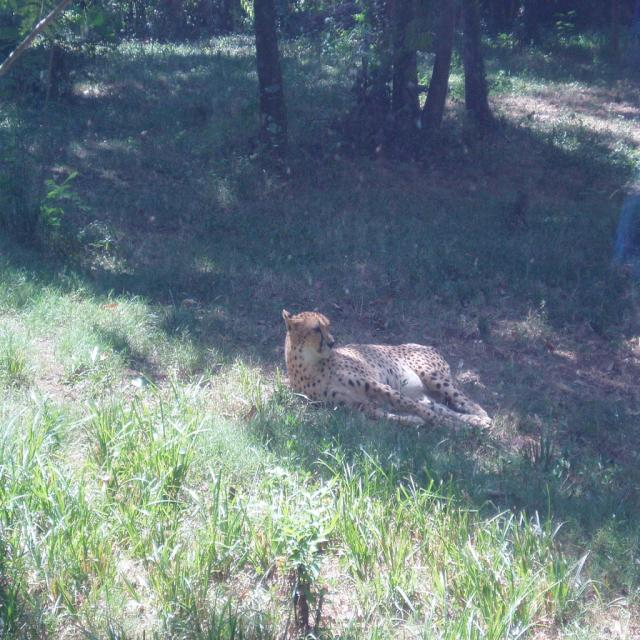Cheetah: (268, 297, 498, 449)
